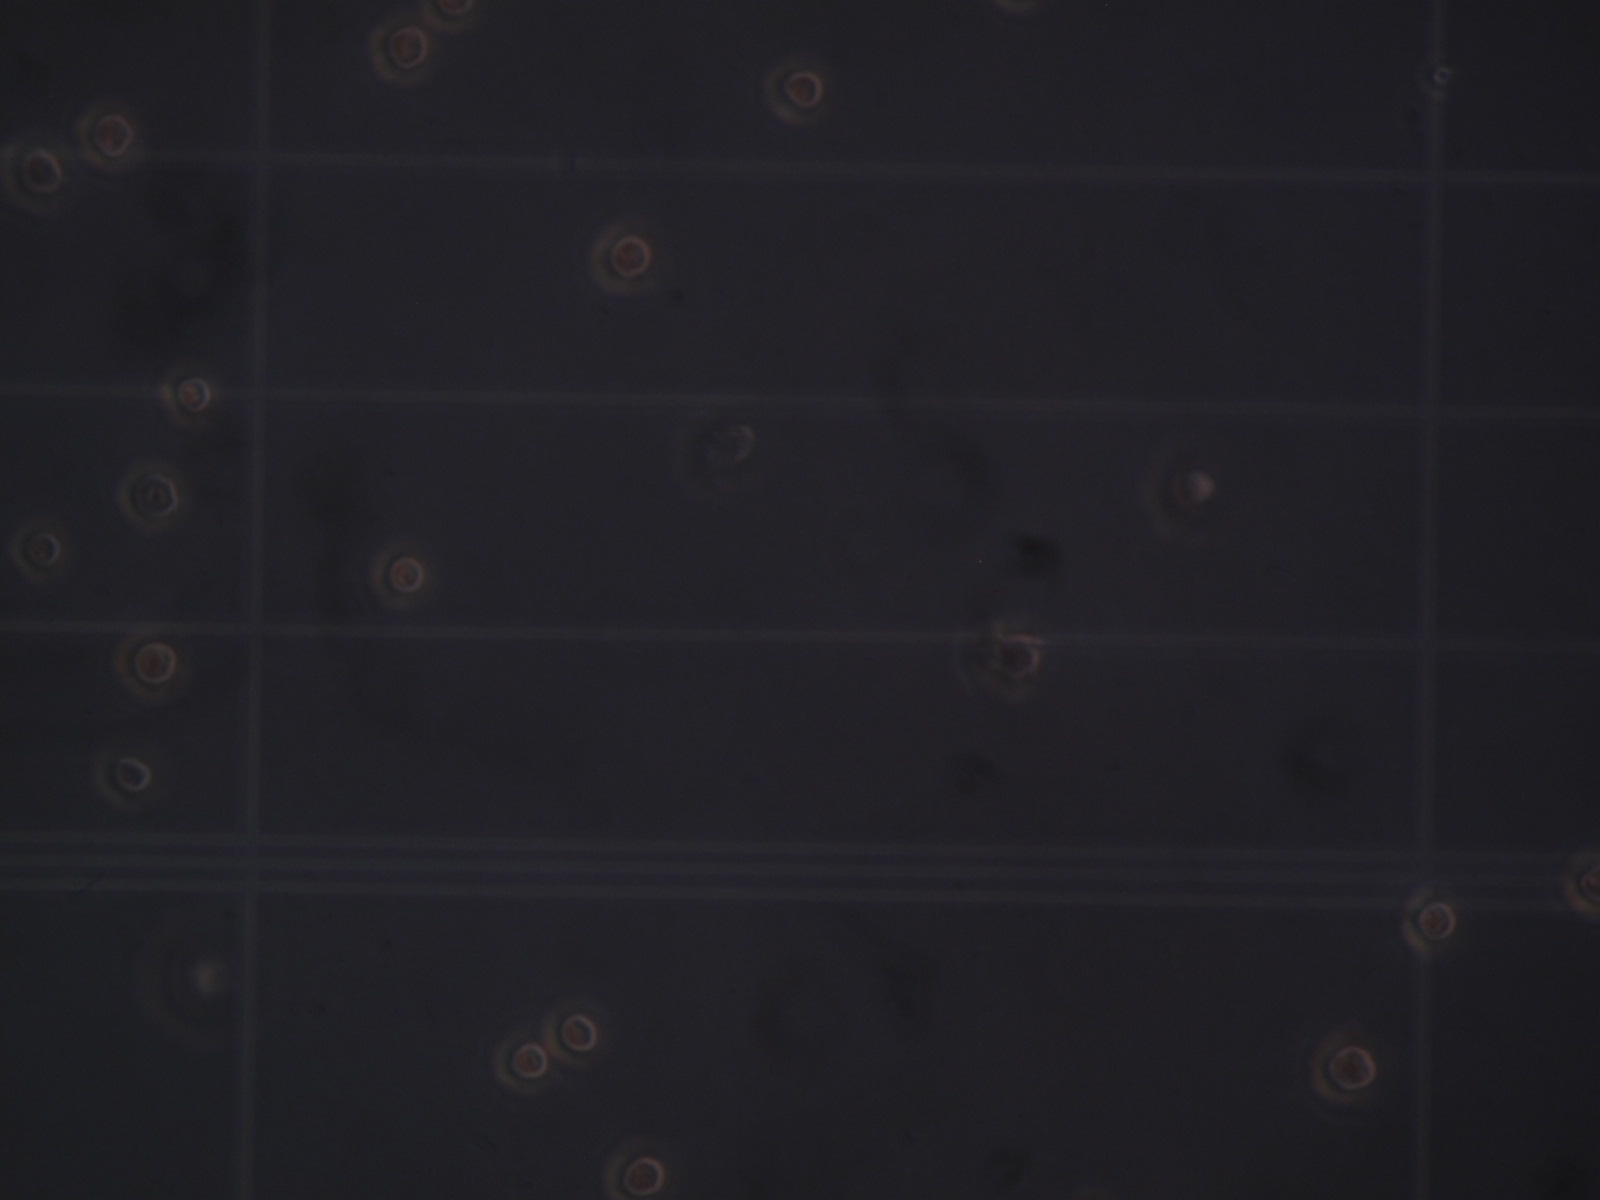hemo: (1141, 444, 1216, 543), (1, 140, 63, 214), (1310, 1035, 1376, 1104), (113, 632, 178, 702), (981, 626, 1042, 701), (590, 226, 653, 296), (116, 465, 180, 529), (73, 106, 134, 171), (762, 63, 824, 126), (368, 21, 430, 84), (94, 746, 152, 811), (1400, 892, 1456, 955), (493, 1036, 551, 1095), (369, 547, 425, 609), (603, 1146, 666, 1200), (157, 366, 212, 429), (544, 1005, 598, 1068), (10, 522, 62, 581), (1563, 852, 1600, 916), (422, 1, 476, 32)
